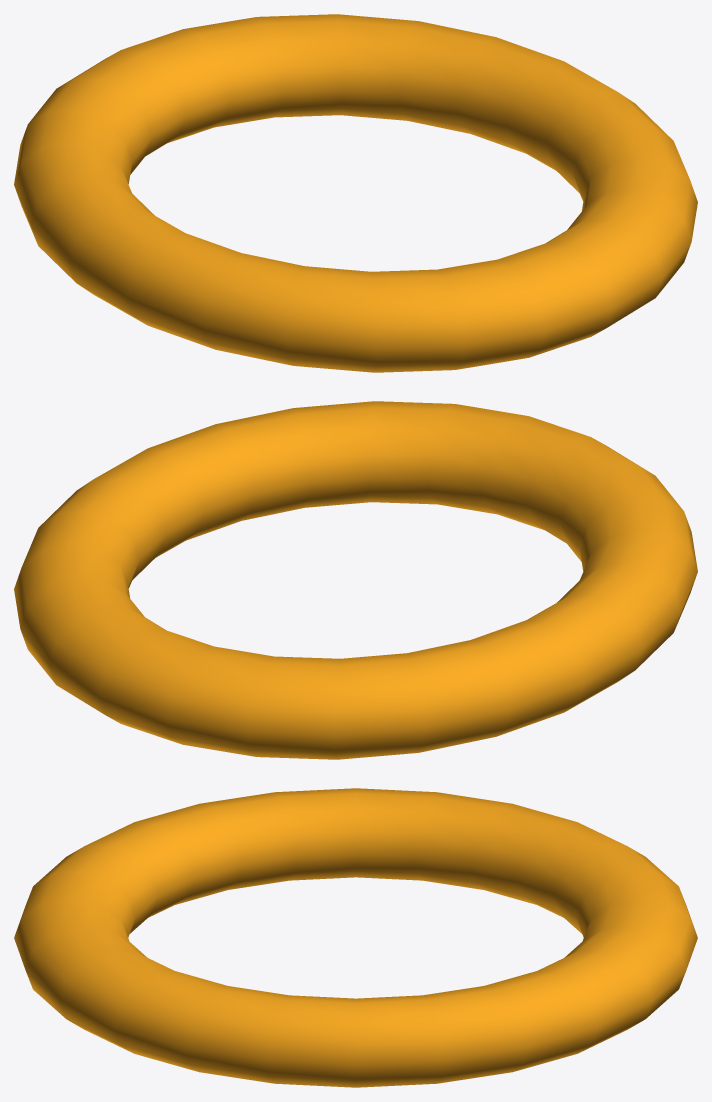
The model's file is nose plug.FBX.
The picture shows the model from 3 angles, top to bottom: view 1: azimuth 30°, elevation 25°; view 2: azimuth 150°, elevation 25°; view 3: azimuth 270°, elevation 25°; orthographic projection. The views are drawn at different scales.
Parts seen in each view (by area): view 1: Torus001; view 2: Torus001; view 3: Torus001.
Part boxes in pixels (x1,y1,x2,y2): Torus001: (14,14,697,372); Torus001: (14,401,697,759); Torus001: (14,788,697,1087).
Bounding box in the file's own units: 12.57 × 1.82 × 14.39.
